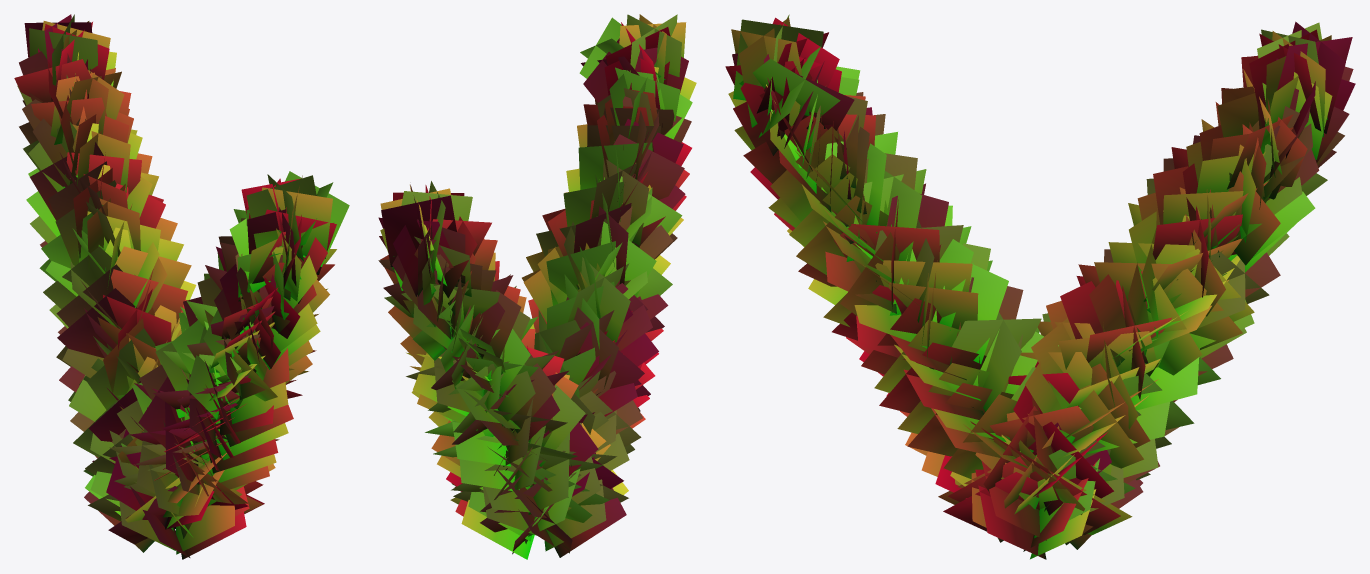
The model's file is URP_P4_Tree_12_LOD_0.fbx.
The picture shows the model from 3 angles, left to right: view 1: azimuth 30°, elevation 25°; view 2: azimuth 150°, elevation 25°; view 3: azimuth 270°, elevation 25°; orthographic projection. The views are drawn at different scales.
Parts seen in each view (by area): view 1: Tree_12_LOD_0; view 2: Tree_12_LOD_0; view 3: Tree_12_LOD_0.
Boxes of the visible parts, x1,y1,x2,y2 form: Tree_12_LOD_0: (14, 14, 349, 559); Tree_12_LOD_0: (378, 14, 696, 559); Tree_12_LOD_0: (725, 14, 1355, 559).
Bounding box in the file's own units: 211 × 586 × 643.
